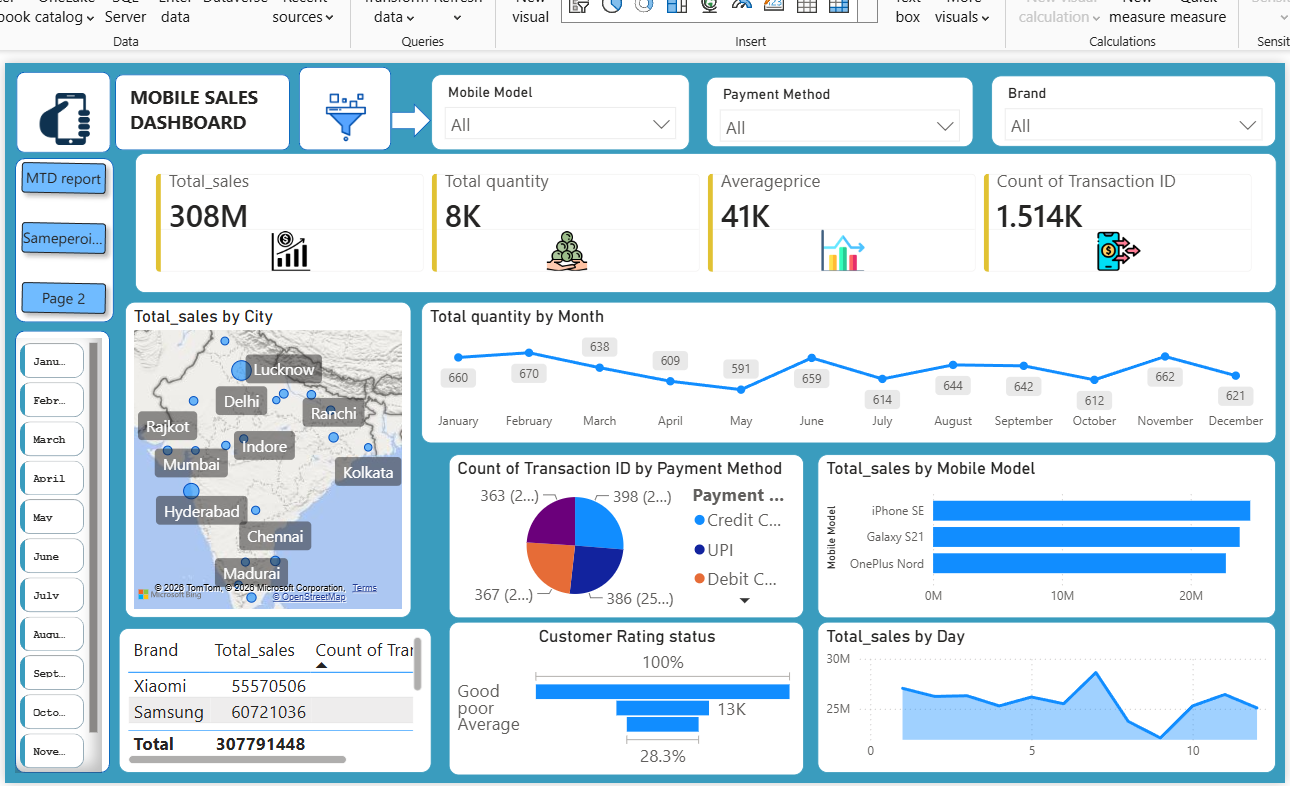

The dashboard page shown, as its layout file describes it:
{"tool":"powerbi","page":{"name":"Dashboard","canvas":[1280,720],"ordinal":0},"visuals":[{"type":"shape","box":[11.1,8.9,94.4,81.1],"z":0},{"type":"image","box":[22.9,30.2,74.8,51.9],"z":1000},{"type":"shape","box":[10,95.6,98.9,164.4],"z":2000},{"type":"shape","box":[10,267.5,95,442.5],"z":3000},{"type":"advancedSlicerVisual","fields":{"Values":["custom calender.Date.Variation.Date Hierarchy.Month"]},"box":[10,275,87.5,435],"z":4000},{"type":"cardVisual","fields":{"Data":["Sheet1.Total_sales","Sheet1.Total quantity","Sheet1.Averageprice","CountNonNull(Sheet1.Transaction ID)"]},"box":[130,90,1141.2,140],"z":5000},{"type":"slicer","fields":{"Values":["Sheet1.Mobile Model"]},"box":[426.2,11.2,258.8,76.2],"z":6000},{"type":"slicer","fields":{"Values":["Sheet1.Payment Method"]},"box":[701.2,13.8,267.5,70],"z":7000},{"type":"slicer","fields":{"Values":["Sheet1.Brand"]},"box":[986.2,12.5,285,71.2],"z":8000},{"type":"shape","box":[293.8,3.8,92.5,83.8],"z":9000},{"type":"image","box":[312.5,30,56.2,48.8],"z":10000},{"type":"shape","box":[386.2,40,40,35],"z":11000},{"type":"shape","box":[110,11.2,175,76.2],"z":12000},{"type":"textbox","box":[120,16.2,153.8,67.5],"z":13000},{"type":"map","fields":{"Category":["Sheet1.City"],"Size":["Sheet1.Total_sales"]},"box":[120,238.8,286.2,316.2],"z":14000},{"type":"lineChart","fields":{"Category":["custom calender.Date.Variation.Date Hierarchy.Month"],"Y":["Sheet1.Total quantity"]},"box":[416.2,238.8,855,141.2],"z":15000},{"type":"funnel","title":"Customer  Rating status","fields":{"Y":["Sum(Sheet1.Customer Age)"],"Category":["Sheet1.Rating status"]},"box":[443.8,558.8,355,153.8],"z":16000},{"type":"pieChart","fields":{"Y":["CountNonNull(Sheet1.Transaction ID)"],"Category":["Sheet1.Payment Method"]},"box":[443.8,391.2,355,163.8],"z":17000},{"type":"clusteredBarChart","fields":{"Y":["Sheet1.Total_sales"],"Category":["Sheet1.Mobile Model"]},"box":[812.5,391.2,458.8,163.8],"z":18000},{"type":"areaChart","fields":{"Category":["custom calender.Date.Variation.Date Hierarchy.Day"],"Y":["Sheet1.Total_sales"]},"box":[812.5,558.8,458.8,151.2],"z":19000},{"type":"tableEx","fields":{"Values":["Sheet1.Brand","Sheet1.Total_sales","CountNonNull(Sheet1.Transaction ID)"]},"box":[113.8,565,312.5,145],"z":20000},{"type":"pageNavigator","box":[3.8,90,110,172.5],"z":21000}]}

Visuals, with their boxes in screenshot pixels (x1, y1, x2, y2):
shape: 18, 69, 112, 150
image: 29, 90, 104, 142
shape: 17, 155, 115, 319
shape: 17, 326, 111, 766
advancedSlicerVisual - custom calender.Date.Variation.Date Hierarchy.Month: 17, 334, 104, 766
cardVisual - Sheet1.Total_sales x Sheet1.Total quantity: 136, 150, 1270, 289
slicer - Sheet1.Mobile Model: 430, 72, 688, 147
slicer - Sheet1.Payment Method: 704, 74, 969, 144
slicer - Sheet1.Brand: 987, 73, 1270, 144
shape: 299, 64, 391, 148
image: 317, 90, 373, 139
shape: 391, 100, 430, 135
shape: 116, 72, 290, 147
textbox: 126, 77, 279, 144
map - Sheet1.City x Sheet1.Total_sales: 126, 298, 410, 612
lineChart - custom calender.Date.Variation.Date Hierarchy.Month x Sheet1.Total quantity: 420, 298, 1270, 438
"Customer  Rating status" funnel: 448, 616, 801, 769
pieChart - CountNonNull(Sheet1.Transaction ID) x Sheet1.Payment Method: 448, 449, 801, 612
clusteredBarChart - Sheet1.Total_sales x Sheet1.Mobile Model: 814, 449, 1270, 612
areaChart - custom calender.Date.Variation.Date Hierarchy.Day x Sheet1.Total_sales: 814, 616, 1270, 766
tableEx - Sheet1.Brand x Sheet1.Total_sales: 120, 622, 430, 766
pageNavigator: 10, 150, 120, 321
